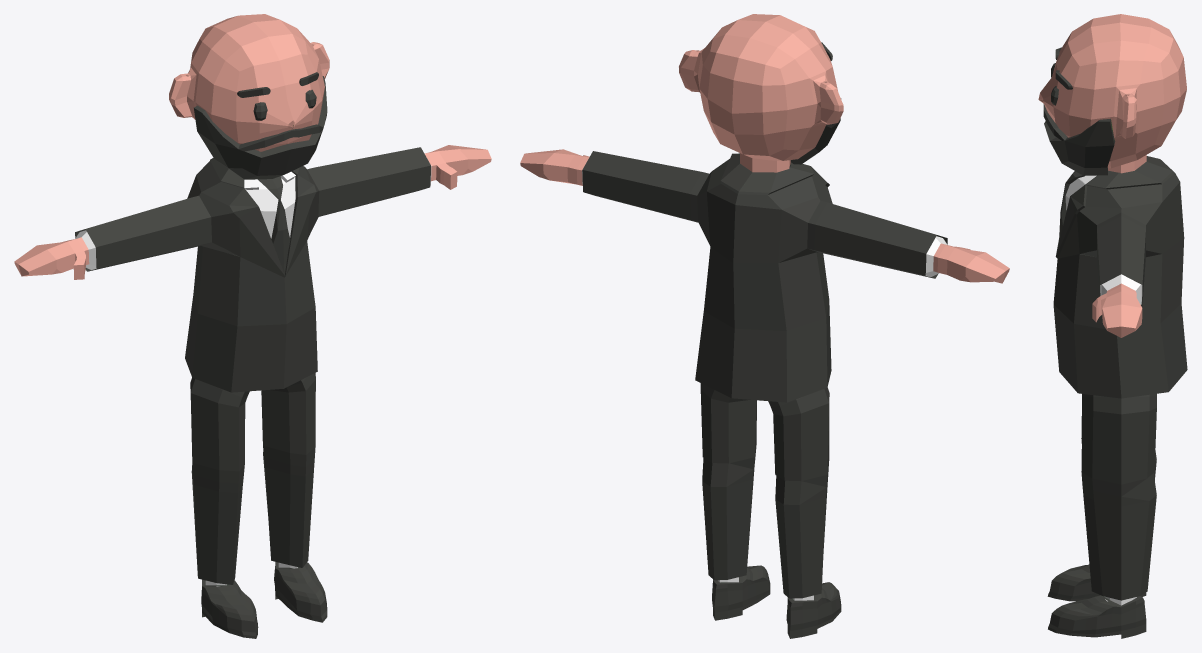
File: npc_auditor_static.fbx
3 views of the same model, side by side, from view 1: azimuth 30°, elevation 25°; view 2: azimuth 150°, elevation 25°; view 3: azimuth 270°, elevation 25° (orthographic). The views are drawn at different scales.
Parts seen in each view (by area): view 1: tux torso, torso, head, beard, tie, eyes, stache.001; view 2: tux torso, torso, head; view 3: tux torso, torso, head, beard, eyes, tie, stache.001.
Boxes of the visible parts, x1,y1,x2,y2 form: tux torso: (75, 147, 430, 392); torso: (14, 145, 491, 638); head: (169, 14, 329, 151); beard: (194, 76, 327, 179); tie: (258, 176, 290, 274); eyes: (237, 72, 318, 120); stache.001: (238, 124, 323, 151); tux torso: (582, 151, 947, 402); torso: (520, 149, 1009, 638); head: (679, 14, 843, 160); tux torso: (1053, 156, 1187, 398); torso: (1047, 155, 1156, 638); head: (1038, 14, 1186, 168); beard: (1044, 118, 1115, 175); eyes: (1051, 47, 1072, 105); tie: (1059, 171, 1084, 241); stache.001: (1043, 104, 1067, 140).
Size of the model in its own units: 582 by 691 by 158.
